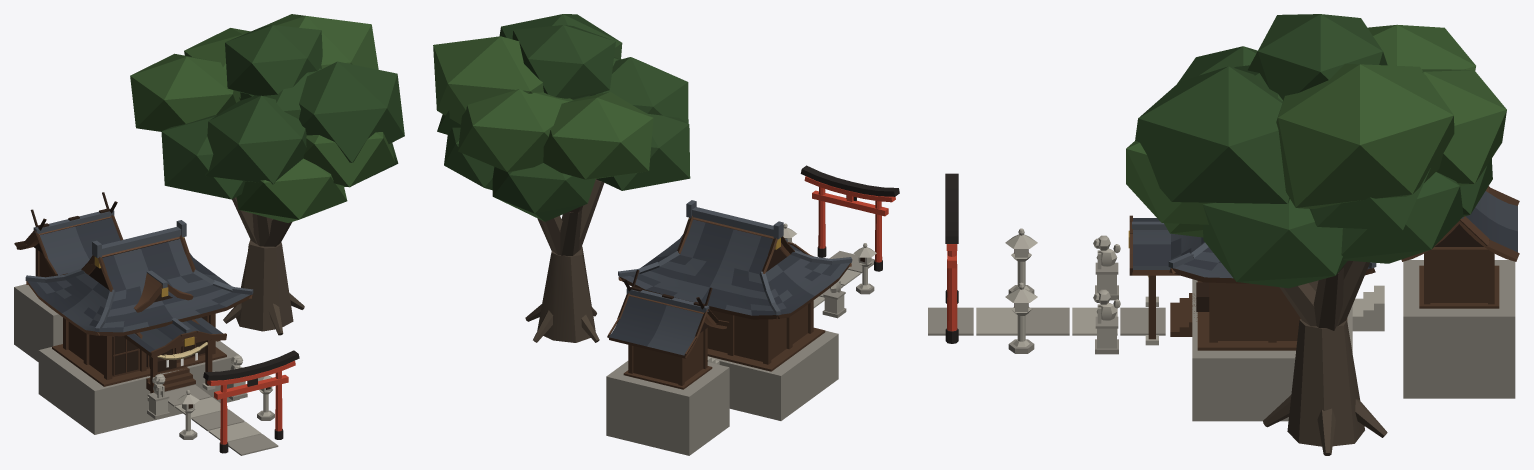
File: ushitora.glb
3 views of the same model, side by side, from view 1: azimuth 30°, elevation 25°; view 2: azimuth 150°, elevation 25°; view 3: azimuth 270°, elevation 25° (orthographic). The views are drawn at different scales.
Visible parts, largest first — view 1: ushitora_jinja; view 2: ushitora_jinja; view 3: ushitora_jinja.
Boxes of the visible parts, left/top/right/bottom form: ushitora_jinja: left=14, top=14, right=404, bottom=455; ushitora_jinja: left=433, top=14, right=899, bottom=455; ushitora_jinja: left=928, top=14, right=1519, bottom=455.
Bounding box in the file's own units: 21.17 × 19.08 × 22.17.
